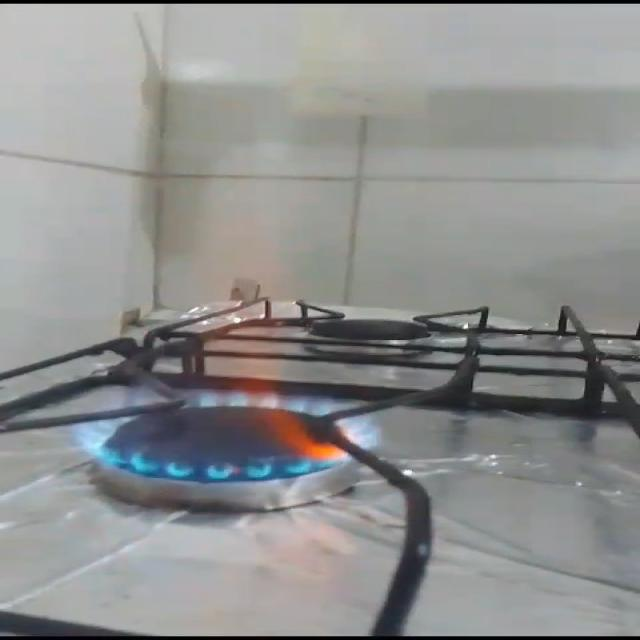fogo-ypXI: (67, 214, 392, 486)
